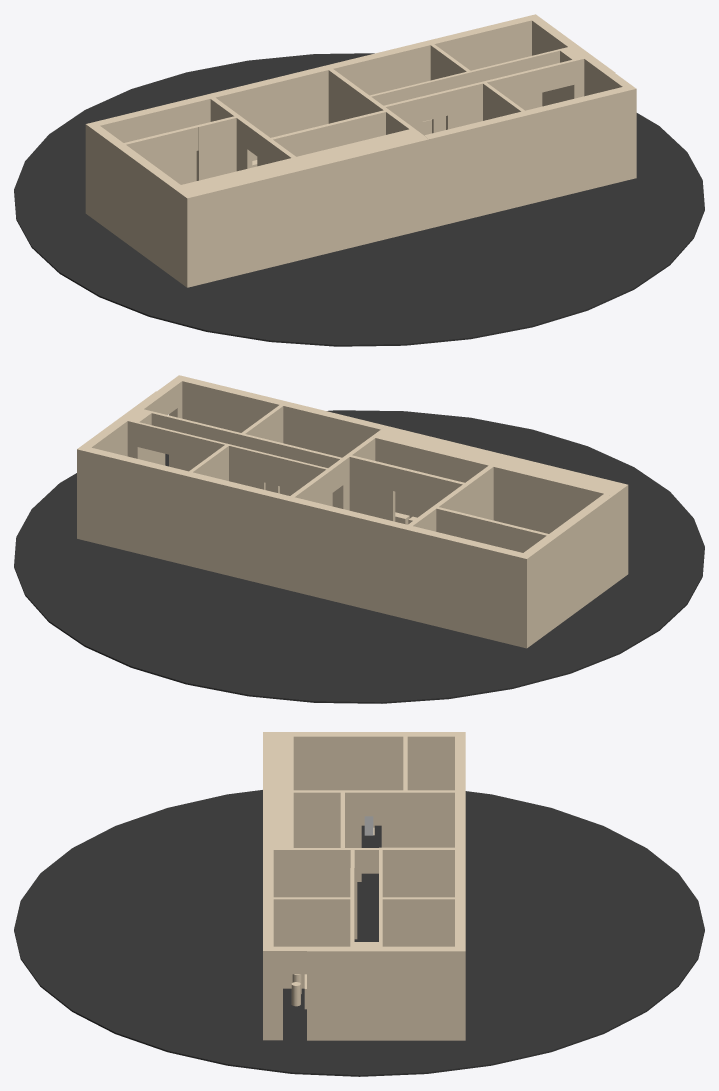
The model's file is kl_boox_house6.glb.
3 views of the same model, one above another, from view 1: azimuth 30°, elevation 25°; view 2: azimuth 150°, elevation 25°; view 3: azimuth 270°, elevation 25° (orthographic).
Visible parts, largest first — view 1: kl_boox_house, Cylinder; view 2: kl_boox_house, Cylinder; view 3: Cylinder, kl_boox_house.
Part boxes in pixels (x1,y1,x2,y2): kl_boox_house: [85, 14, 636, 287]; Cylinder: [14, 53, 704, 346]; kl_boox_house: [77, 375, 628, 648]; Cylinder: [14, 410, 704, 703]; Cylinder: [14, 790, 704, 1076]; kl_boox_house: [263, 732, 465, 1040].
Size of the model in its own units: 800 by 117 by 800.
